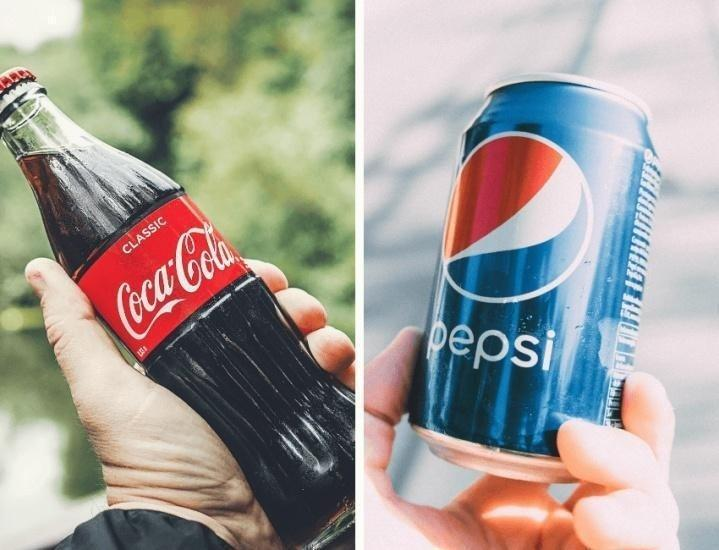bottle-glass: (1, 60, 360, 550)
tin can: (404, 70, 661, 485)
